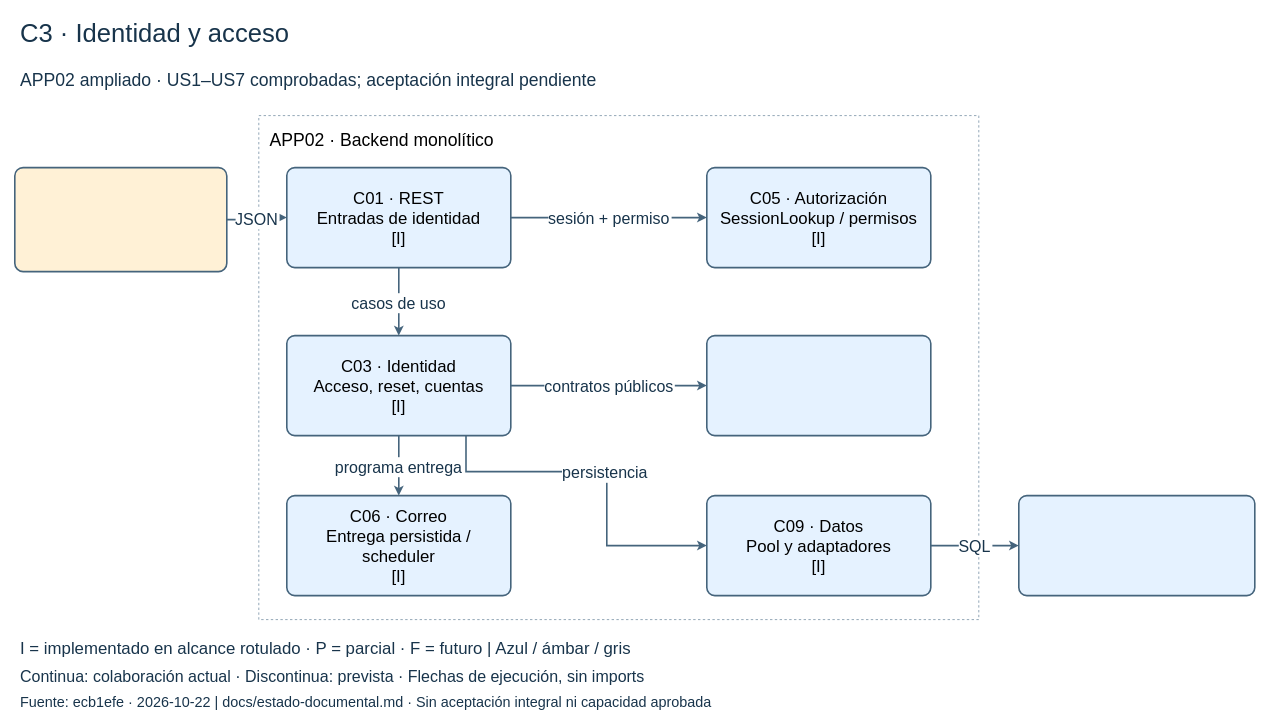
The diagram is 1269 pixels wide and 726 high, and some of its shapes have lost their labels. Each missing label, with the centre of its shape:
"AL01 · PostgreSQL Identidad / restricciones [I]" goes at (x=1136, y=545).
"APP01 · Web Identidad / cuentas [P]" goes at (x=120, y=219).
"C04 · Usuarios Reglas / perfil / consultas [I]" goes at (x=818, y=385).
